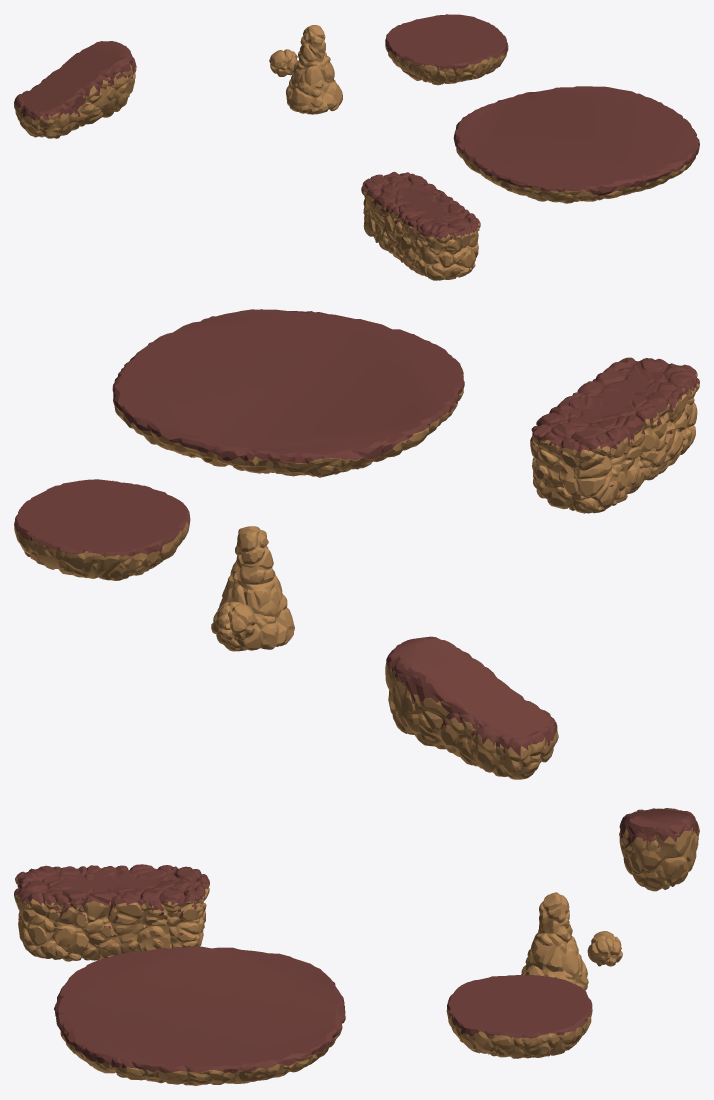
The model's file is stones.fbx.
3 views of the same model, one above another, from view 1: azimuth 30°, elevation 25°; view 2: azimuth 150°, elevation 25°; view 3: azimuth 270°, elevation 25° (orthographic). The views are drawn at different scales.
Visible parts, largest first — view 1: BigPlatform, SmallWallStone, Ramp, MediumPlatform, Stalagmite, JustAStone; view 2: BigPlatform, SmallWallStone, Ramp, MediumPlatform, Stalagmite, JustAStone; view 3: BigPlatform, SmallWallStone, MediumPlatform, Ramp, Stalagmite, JustAStone.
Boxes of the visible parts, bbox=[...] form: BigPlatform: bbox=[453, 86, 699, 203]; SmallWallStone: bbox=[361, 171, 480, 280]; Ramp: bbox=[14, 41, 136, 138]; MediumPlatform: bbox=[385, 14, 508, 85]; Stalagmite: bbox=[286, 25, 342, 114]; JustAStone: bbox=[269, 49, 297, 76]; BigPlatform: bbox=[112, 309, 464, 477]; SmallWallStone: bbox=[530, 357, 699, 513]; Ramp: bbox=[385, 636, 558, 779]; MediumPlatform: bbox=[14, 479, 190, 580]; Stalagmite: bbox=[211, 526, 294, 651]; JustAStone: bbox=[216, 601, 256, 640]; BigPlatform: bbox=[54, 946, 345, 1085]; SmallWallStone: bbox=[14, 864, 209, 961]; MediumPlatform: bbox=[446, 975, 592, 1058]; Ramp: bbox=[619, 808, 699, 891]; Stalagmite: bbox=[521, 892, 588, 990]; JustAStone: bbox=[587, 931, 622, 966].
Size of the model in its own units: 95.26 by 16.6 by 97.64.
